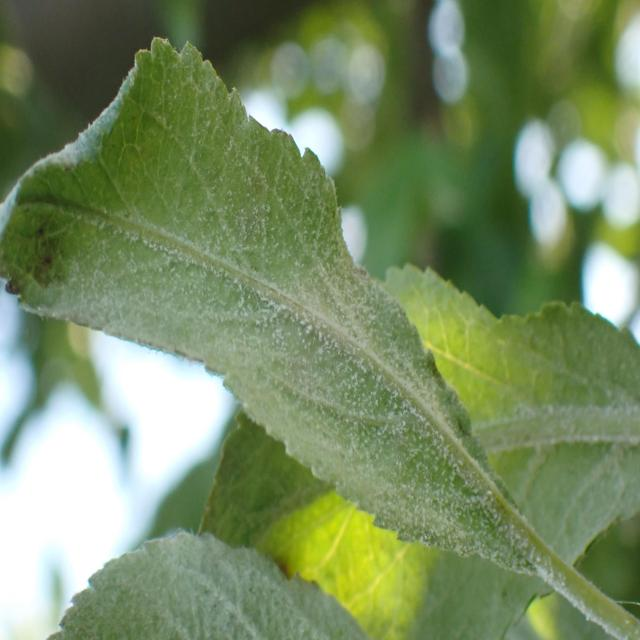Powdery_mildew: (12, 37, 555, 588), (0, 516, 376, 640)
